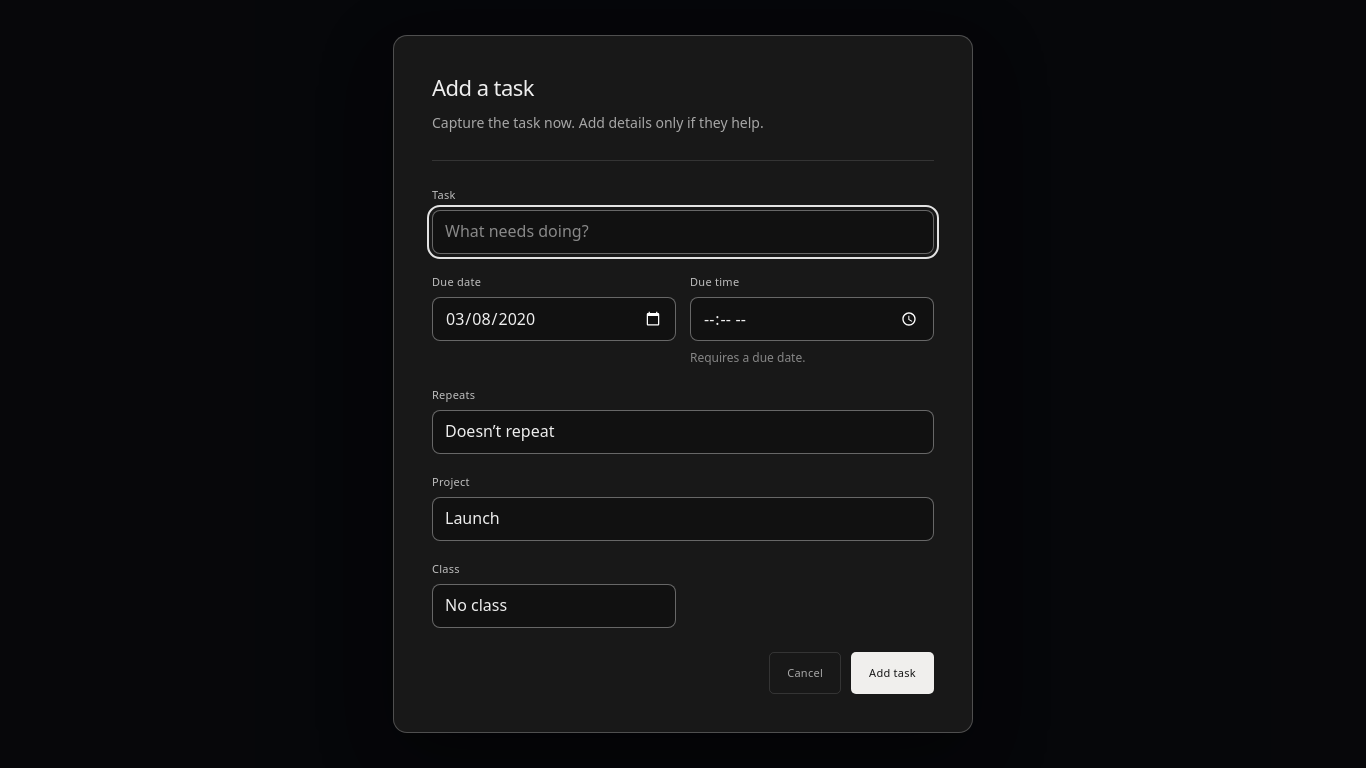
Test: TodoFormDialog class fields › switches between project and class, keeping assignment type class-only
Later steps or results of the test are not shown.
Type "Worksheet" into the field labelled "Task".
click(683, 232); type("Worksheet")  # box [432,210,934,254]
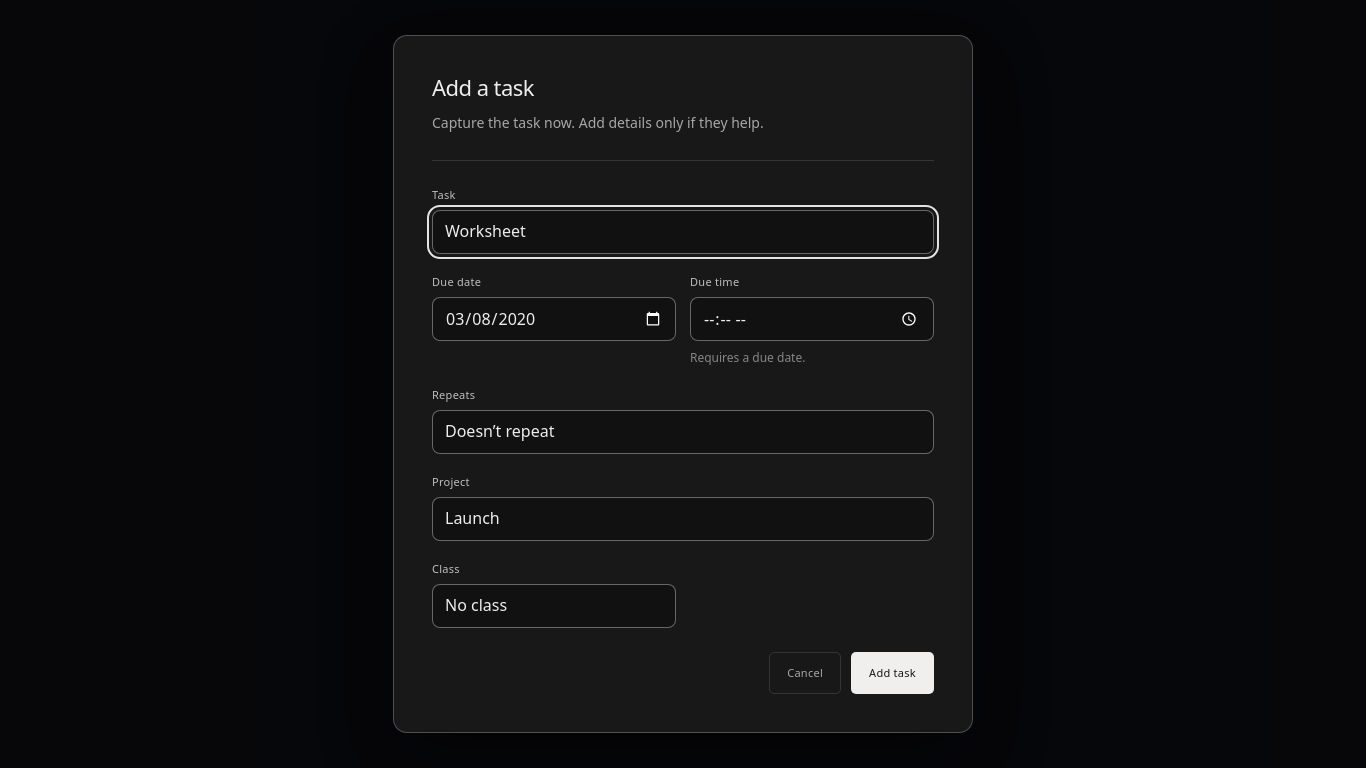
Select "Math" in the dropdown labelled "Class" at (554, 606), box [432,584,676,628]
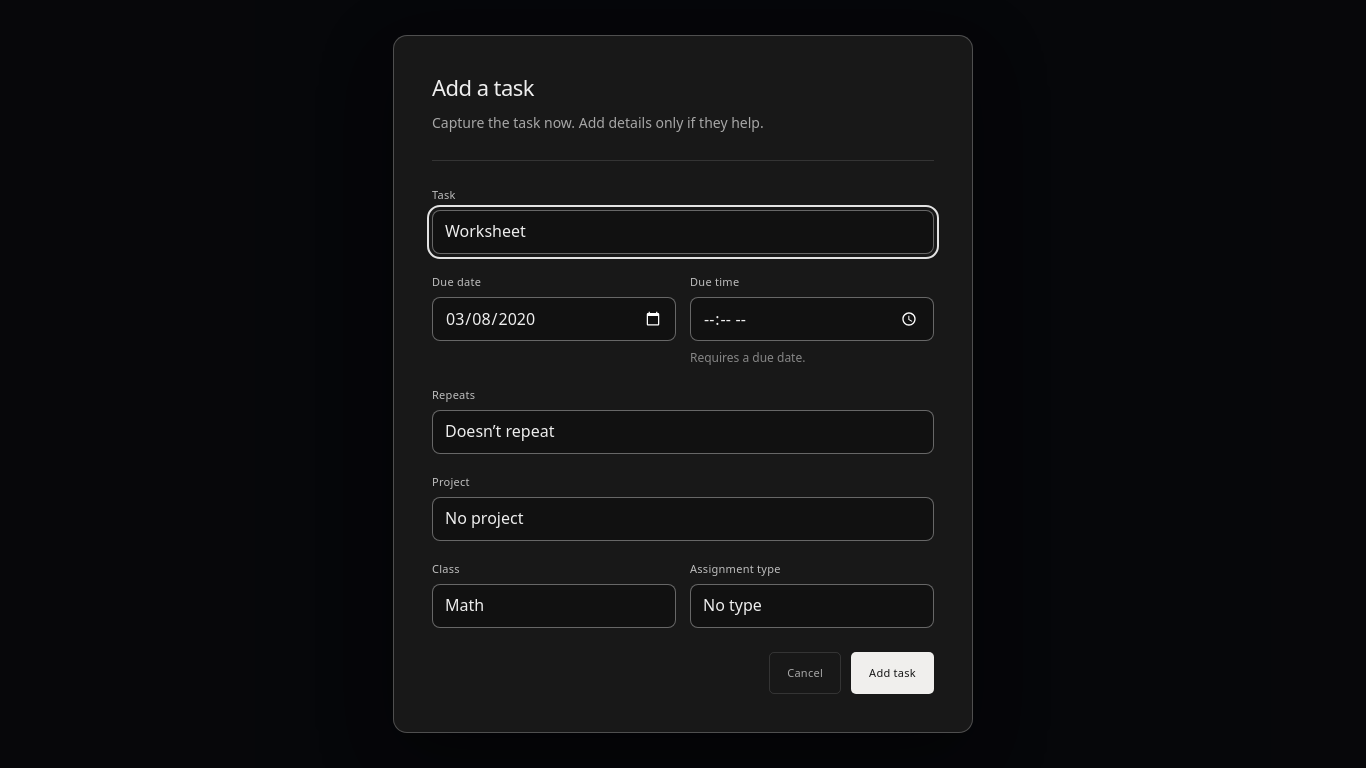
Expected: the dropdown labelled "Project" shows "No project", [432,497,934,541]
Select "Quiz" in the dropdown labelled "Assignment type" at (812, 606), box [690,584,934,628]
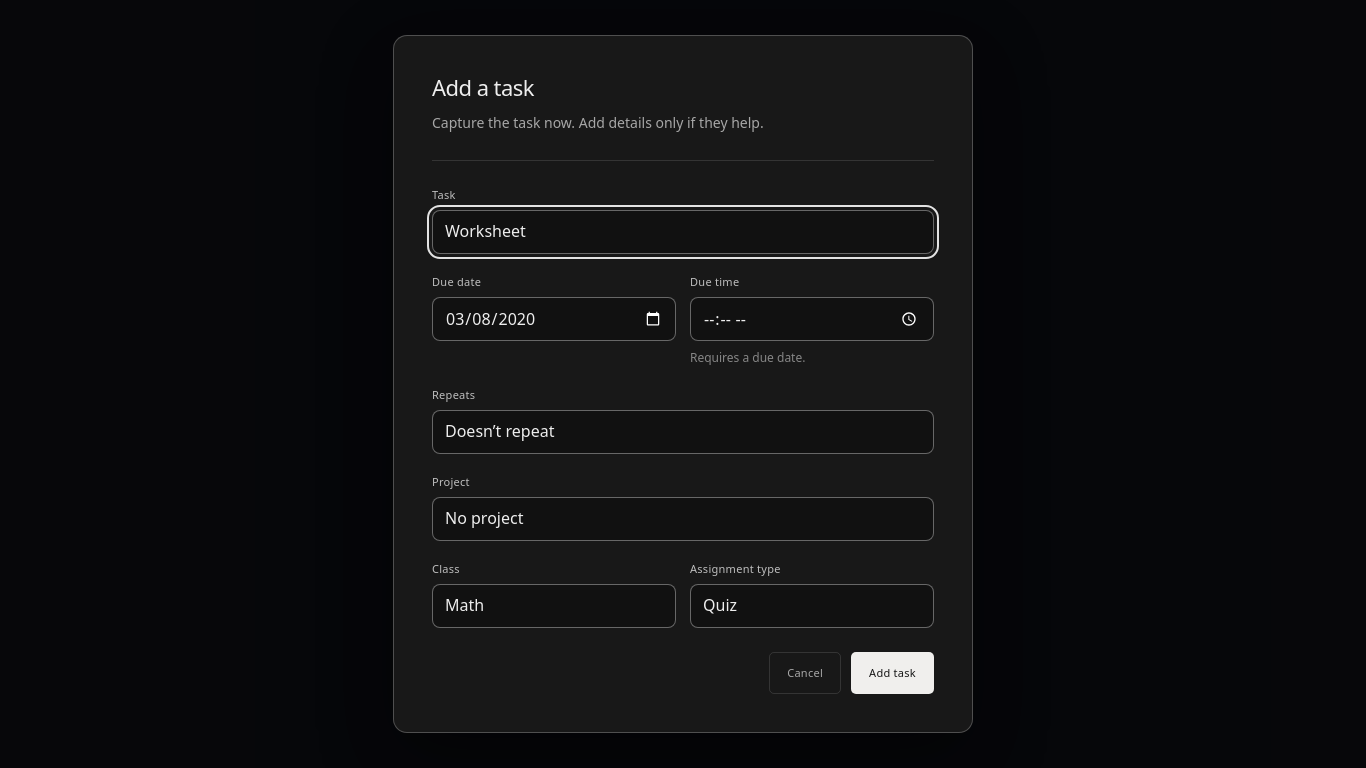
Select "Launch" in the dropdown labelled "Project" at (683, 519), box [432,497,934,541]
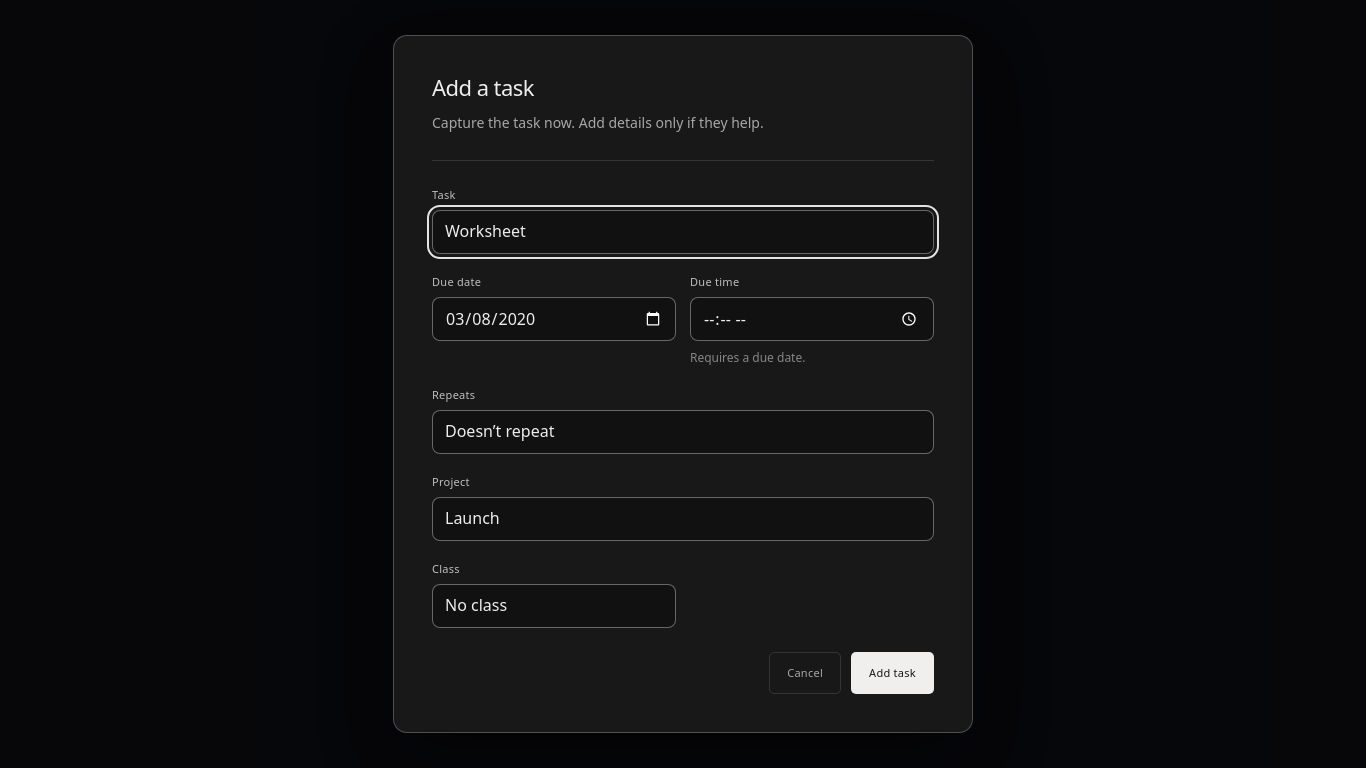
Expected: the label labelled "Assignment type" is gone
Select "Math" in the dropdown labelled "Class" at (554, 606), box [432,584,676,628]
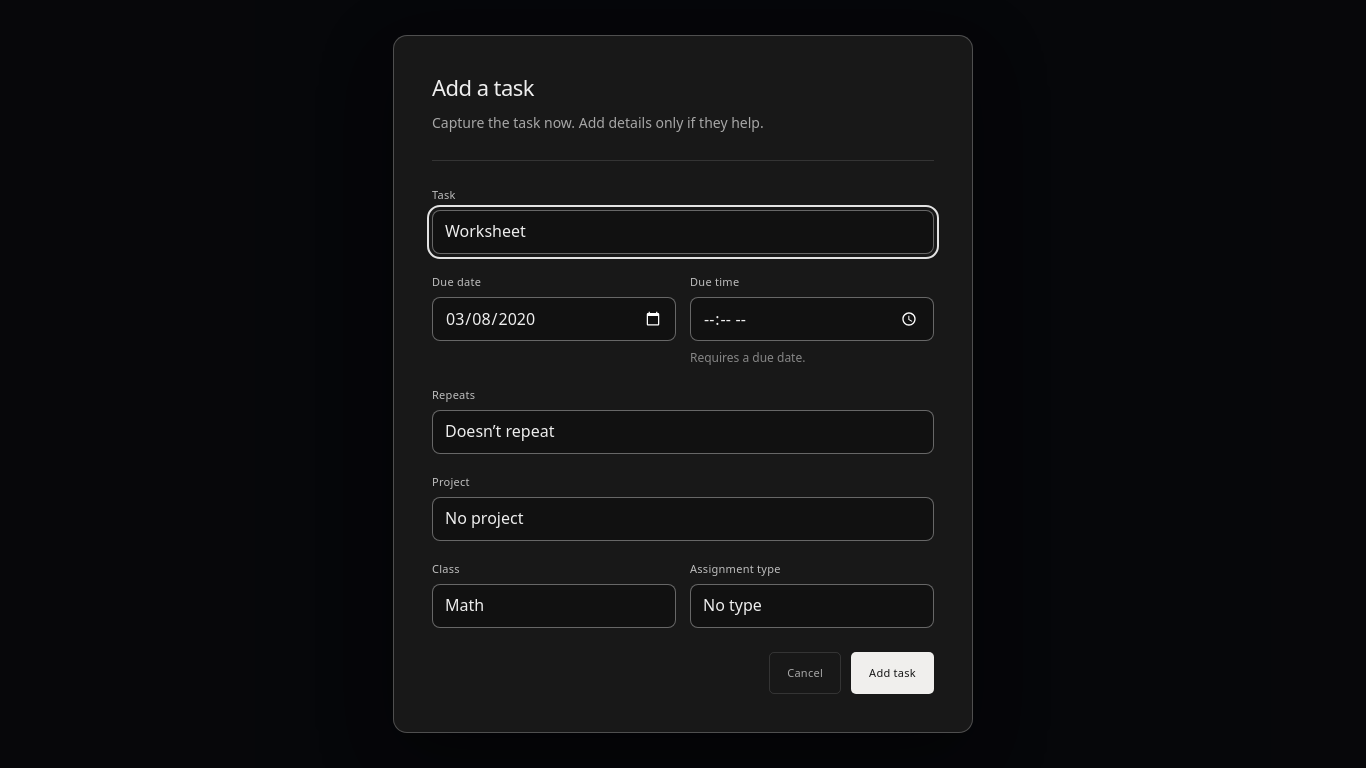
Expected: the dropdown labelled "Assignment type" shows "No type", [690,584,934,628]
